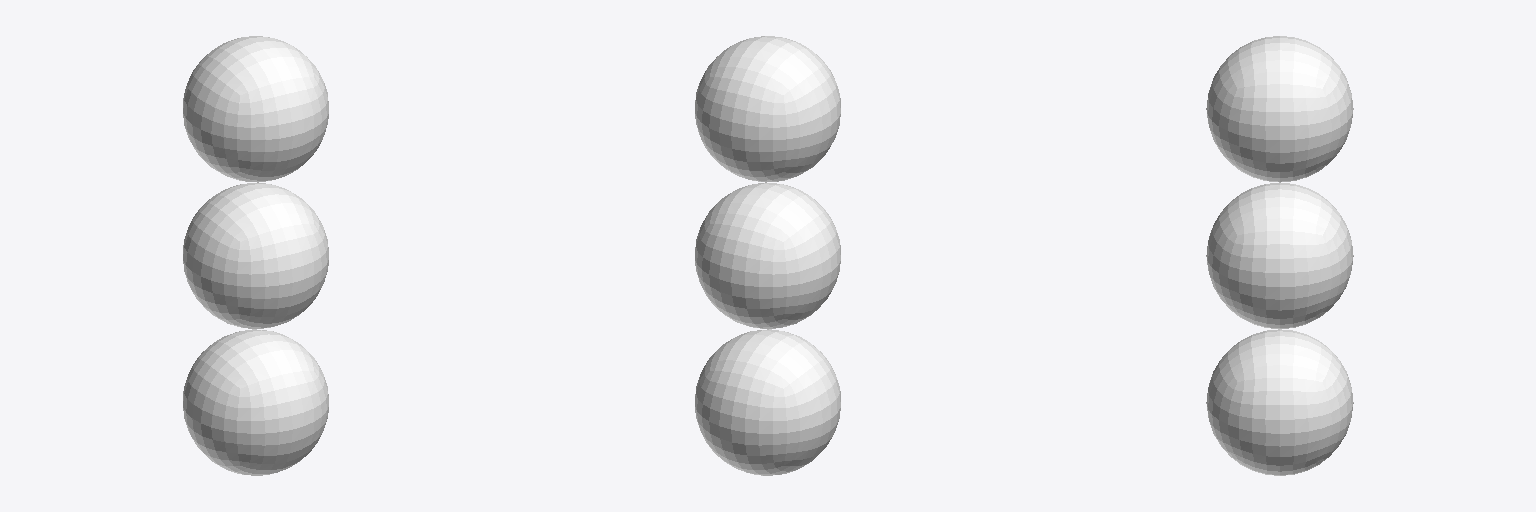
File: Three.obj
3 views of the same model, side by side, from view 1: azimuth 30°, elevation 25°; view 2: azimuth 150°, elevation 25°; view 3: azimuth 270°, elevation 25° (orthographic).
Parts seen in each view (by area): view 1: CountThreePrefab_1_Scene.019, CountThreePrefab__1__Scene.020, CountThreePrefab_Scene.018; view 2: CountThreePrefab_1_Scene.019, CountThreePrefab__1__Scene.020, CountThreePrefab_Scene.018; view 3: CountThreePrefab__1__Scene.020, CountThreePrefab_Scene.018, CountThreePrefab_1_Scene.019.
Boxes of the visible parts, x1=… form: CountThreePrefab_1_Scene.019: x1=183, y1=36, x2=328, y2=182; CountThreePrefab__1__Scene.020: x1=183, y1=329, x2=328, y2=475; CountThreePrefab_Scene.018: x1=183, y1=183, x2=328, y2=328; CountThreePrefab_1_Scene.019: x1=695, y1=36, x2=840, y2=182; CountThreePrefab__1__Scene.020: x1=695, y1=329, x2=840, y2=475; CountThreePrefab_Scene.018: x1=695, y1=183, x2=840, y2=328; CountThreePrefab__1__Scene.020: x1=1206, y1=329, x2=1353, y2=475; CountThreePrefab_Scene.018: x1=1206, y1=183, x2=1353, y2=328; CountThreePrefab_1_Scene.019: x1=1206, y1=36, x2=1353, y2=182.
Bounding box in the file's own units: 0.03 × 0.096 × 0.03.